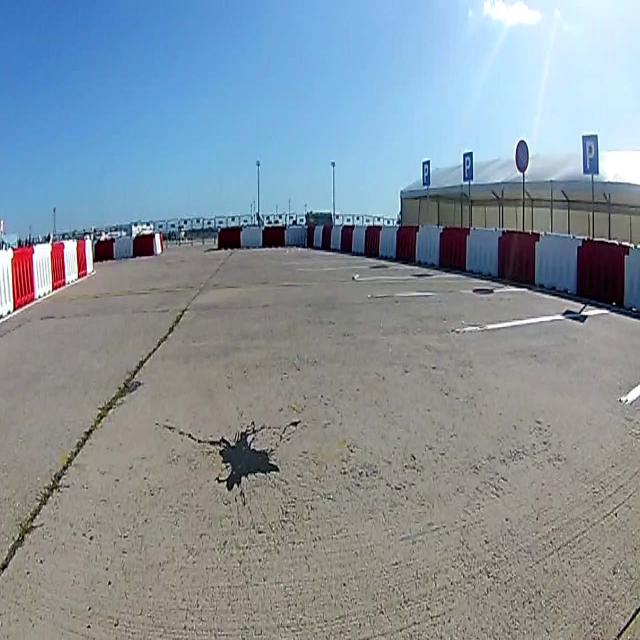park: (582, 134, 600, 176), (462, 151, 473, 181), (422, 160, 431, 187)
parkyasak: (515, 139, 528, 173)
